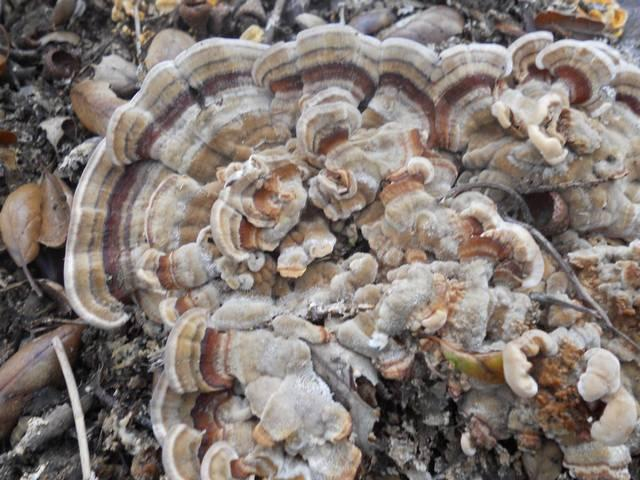poisonous_mushroom: (58, 16, 639, 479)
